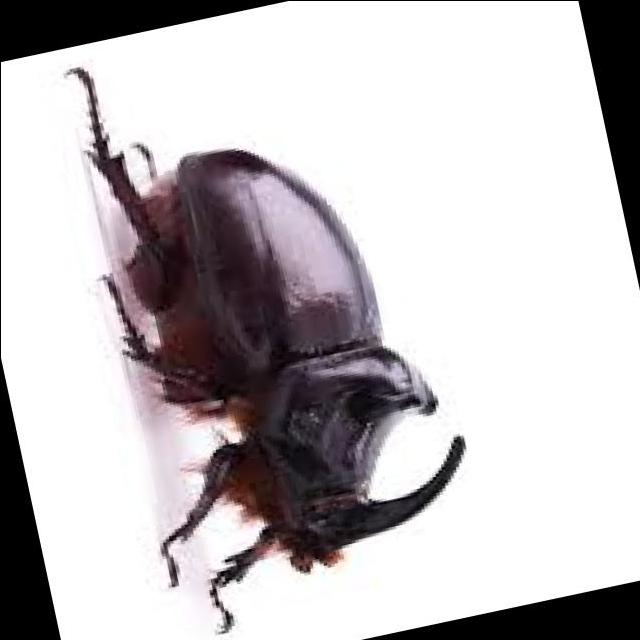Rhino-beetle: (125, 119, 470, 576)
